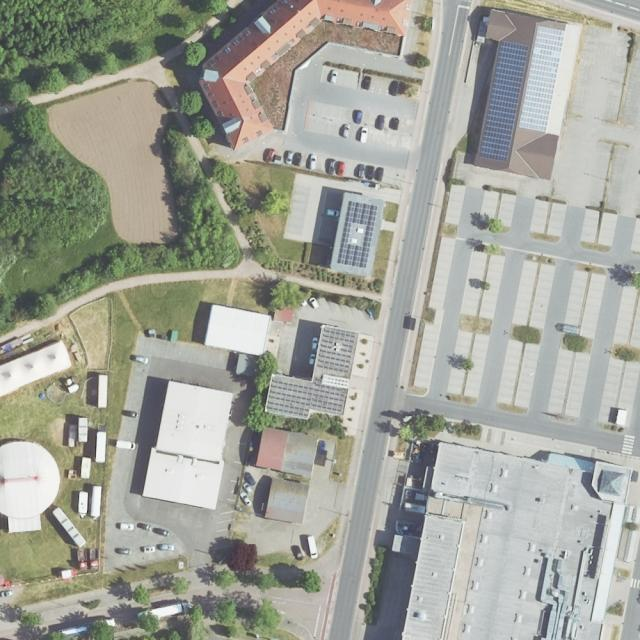PV: (477, 42, 527, 163), (517, 25, 563, 132), (266, 376, 348, 420), (336, 200, 378, 269), (314, 326, 356, 374), (344, 221, 365, 246)
